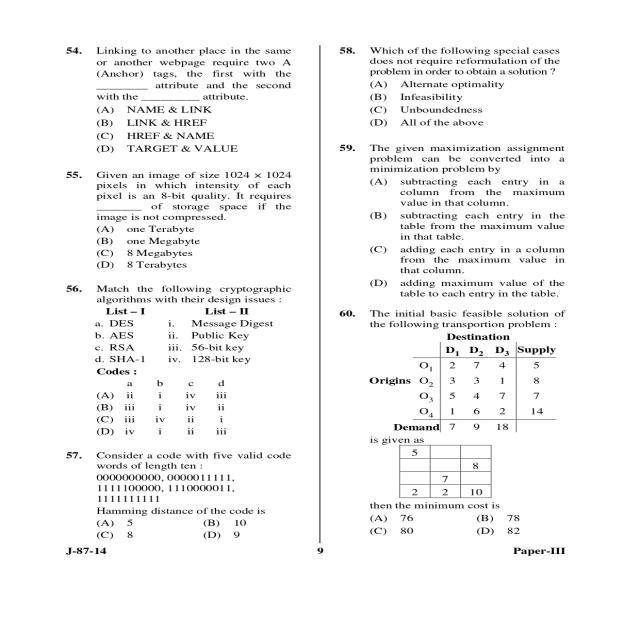Answer_Block: (331, 175, 578, 299), (61, 366, 310, 437), (62, 103, 310, 155), (329, 78, 576, 130), (61, 224, 312, 272), (328, 512, 576, 541), (59, 517, 310, 542)
Question_Answer_Block: (328, 307, 576, 542), (61, 279, 313, 438), (328, 140, 576, 299), (61, 42, 312, 156), (61, 166, 312, 272), (61, 446, 312, 542), (328, 42, 576, 129)
Question_Block: (328, 306, 576, 510), (61, 279, 310, 366), (61, 447, 312, 517), (62, 44, 310, 104), (61, 168, 312, 224), (330, 42, 576, 78), (330, 140, 576, 174)
Question_Paper_Area: (61, 44, 312, 542), (328, 42, 576, 542)
